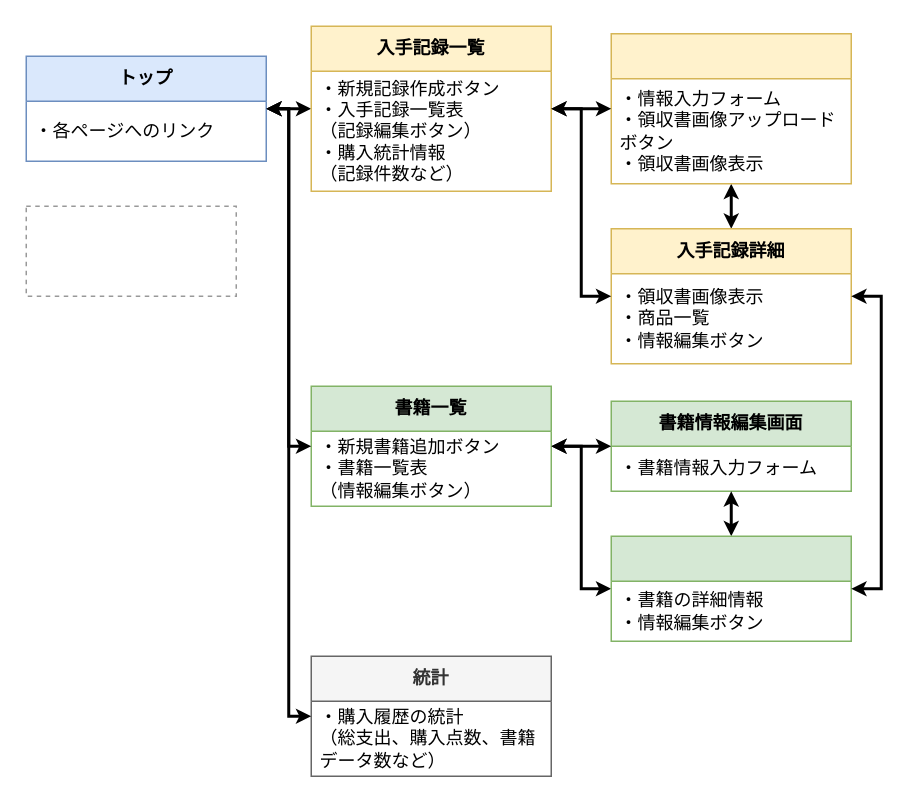
This 920x803 diagram has some shape labels left out. The shapes that lost their labels are listed below. From the top down, each one's box as (x1, y1, x2, y2) in pixels, then its label:
(610, 32, 851, 184): 入手記録編集画面
(25, 205, 236, 296): 各ページから トップページへの 遷移は省略する
(610, 535, 851, 641): 書籍詳細
